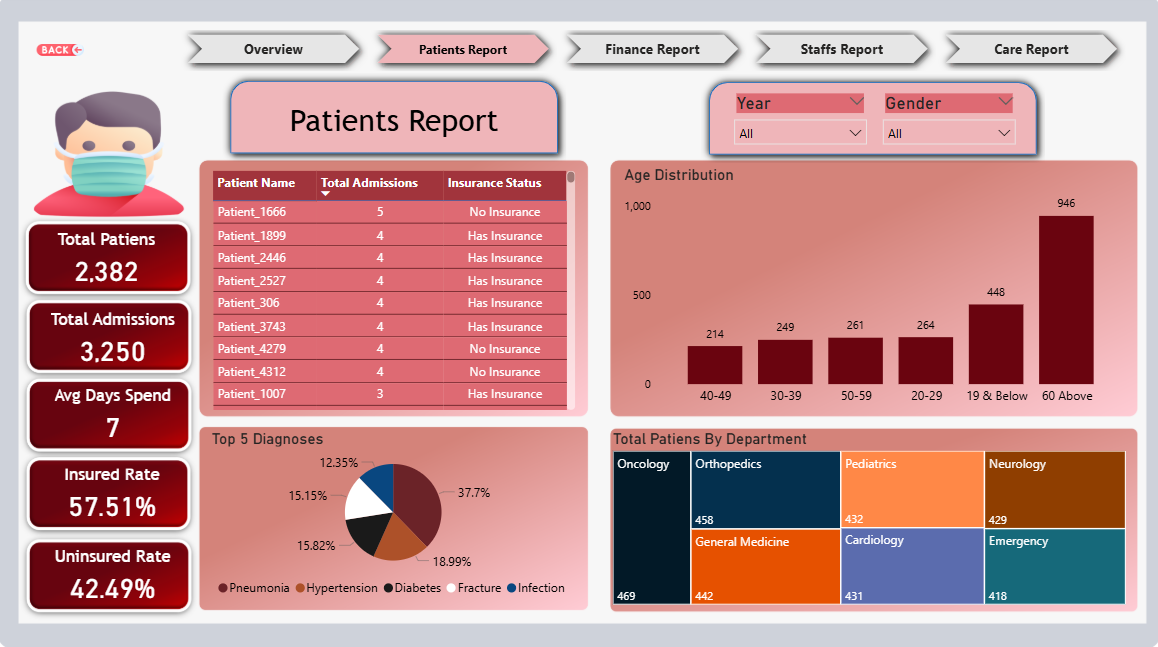

The dashboard page shown, as its layout file describes it:
{"tool":"powerbi","page":{"name":"Patients Report","canvas":[1280,720],"ordinal":2},"visuals":[{"type":"shape","box":[773.9,87.8,377.4,97.4],"z":0},{"type":"cardVisual","fields":{"Data":["_measures.Total Patiens"]},"box":[41.2,256.6,160.5,65.9],"z":1000},{"type":"cardVisual","fields":{"Data":["_measures.Total Admissions"]},"box":[41.2,344.4,174.3,65.9],"z":2000},{"type":"cardVisual","fields":{"Data":["_measures.Average number of days spent"]},"box":[41.2,428.1,174.3,65.9],"z":3000},{"type":"cardVisual","fields":{"Data":["_measures.Patients with insurance rate"]},"box":[39.8,516,175.6,64.5],"z":4000},{"type":"cardVisual","fields":{"Data":["_measures.Patients without insurance rate"]},"box":[41.2,605.1,174.3,65.9],"z":5000},{"type":"tableEx","fields":{"Values":["fact_table.Patient_Name","_measures.Total Admissions","fact_table.Insurance Status"]},"box":[231.4,189,408.7,272.5],"z":6000},{"type":"treemap","title":"Total Patiens By Department","fields":{"Group":["fact_table.Department_Name"],"Values":["_measures.Total Patiens"]},"box":[672.4,477.5,572.8,197.8],"z":7000},{"type":"columnChart","title":"Age Distribution","fields":{"Category":["fact_table.age_band"],"Y":["_measures.Total Patiens"]},"box":[684.1,187.5,558.1,272.5],"z":8000},{"type":"pieChart","title":"Top 5 Diagnoses","fields":{"Category":["fact_table.Diagnosis_Description"],"Y":["_measures.Total Patiens"]},"box":[231.4,477.5,408.7,193.4],"z":9000},{"type":"image","box":[39.6,13.2,61.5,95.2],"z":10000},{"type":"slicer","fields":{"Values":["fact_table.Gender"]},"box":[963.3,104.3,166,65.9],"z":11000},{"type":"slicer","fields":{"Values":["Date_Table.Year"]},"box":[800,104.3,166,65.9],"z":12000},{"type":"pageNavigator","box":[201.7,35.7,1042.9,49.4],"z":13000},{"type":"shape","box":[248.4,86.4,377.4,97.4],"z":14000}]}

Visuals, with their boxes in screenshot pixels (x1, y1, x2, y2), scaled from the page's 1280x720 canvas onto the 1158x647 screenshot:
shape: [700,79,1042,166]
cardVisual - _measures.Total Patiens: [37,231,182,290]
cardVisual - _measures.Total Admissions: [37,309,195,369]
cardVisual - _measures.Average number of days spent: [37,385,195,444]
cardVisual - _measures.Patients with insurance rate: [36,464,195,522]
cardVisual - _measures.Patients without insurance rate: [37,544,195,603]
tableEx - fact_table.Patient_Name x _measures.Total Admissions: [209,170,579,415]
"Total Patiens By Department" treemap: [608,429,1127,607]
"Age Distribution" columnChart: [619,168,1124,413]
"Top 5 Diagnoses" pieChart: [209,429,579,603]
image: [36,12,91,97]
slicer - fact_table.Gender: [871,94,1022,153]
slicer - Date_Table.Year: [724,94,874,153]
pageNavigator: [182,32,1126,76]
shape: [225,78,566,165]
